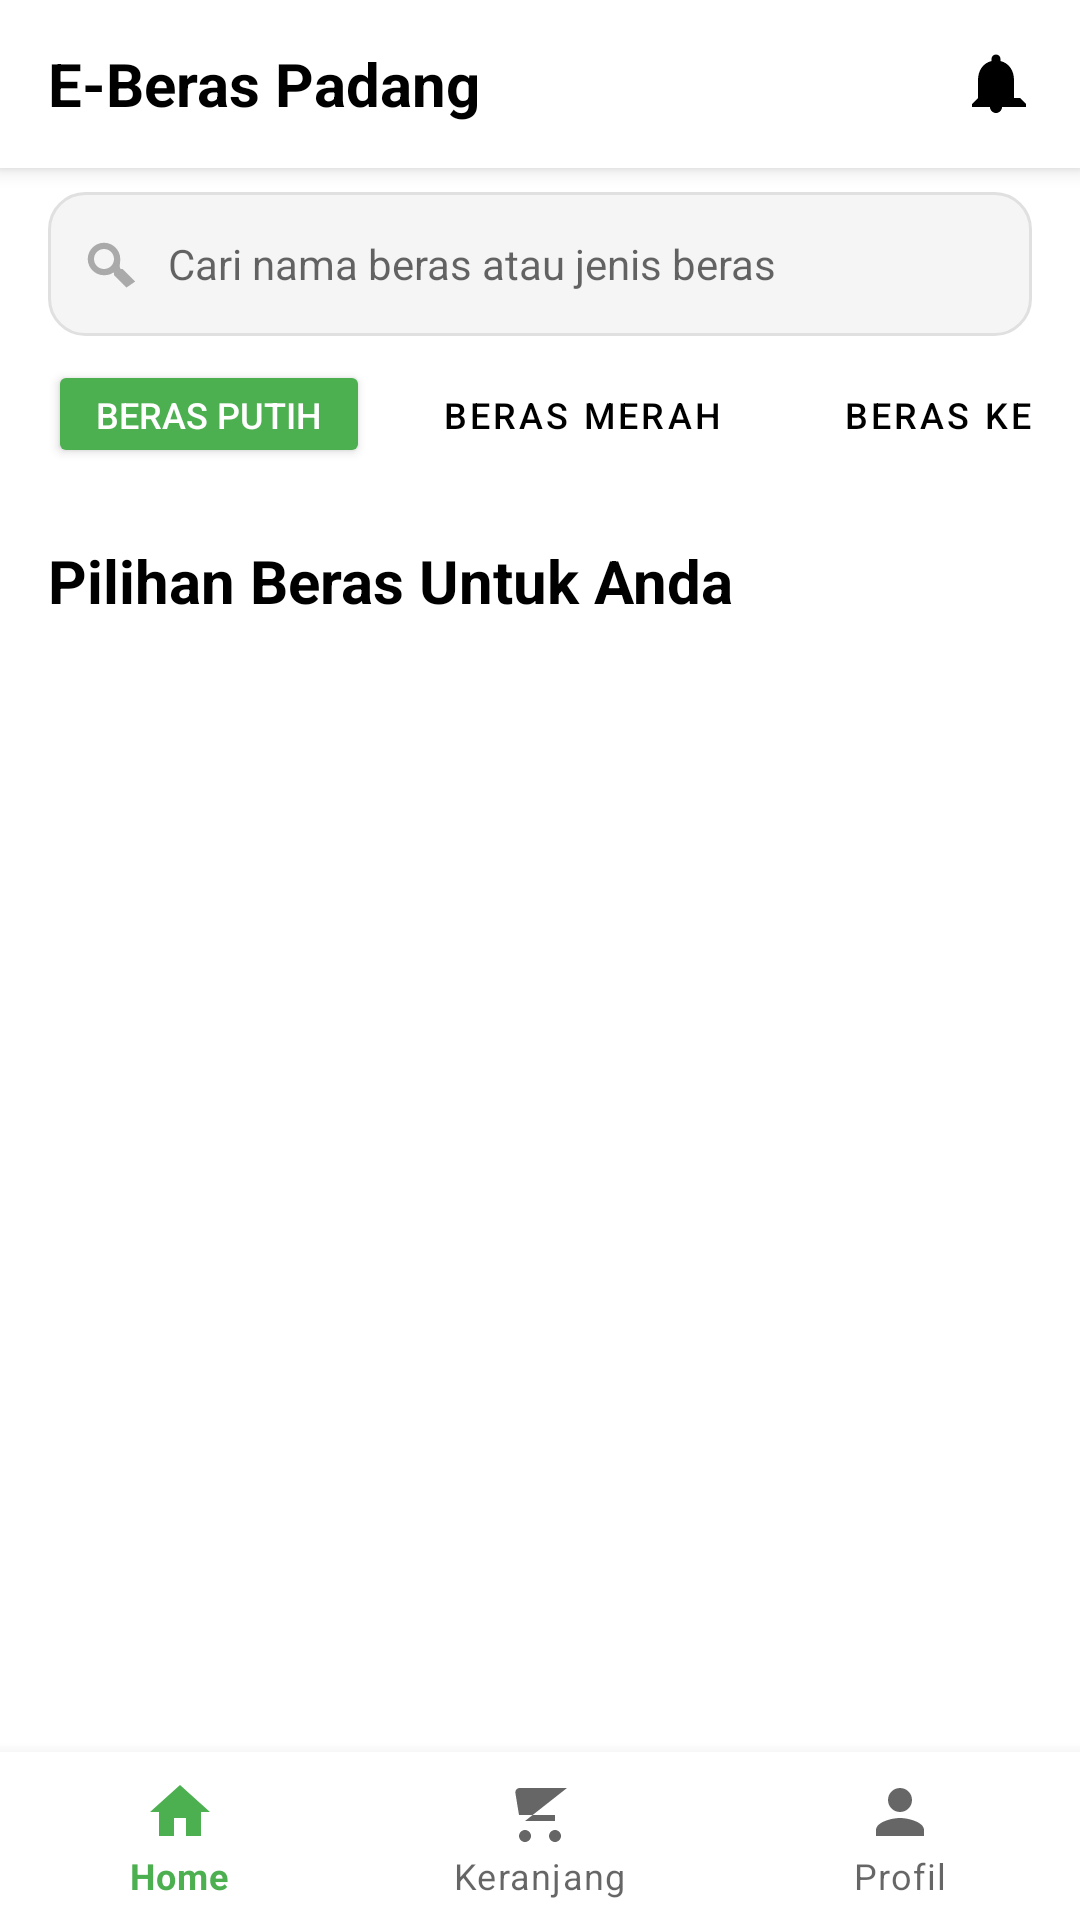

Screen size 1080 × 1920. Icon name, then its center in pixels as (x=x, y=y):
Ikon Pencarian: (x=111, y=265)
Notifikasi: (x=999, y=83)
